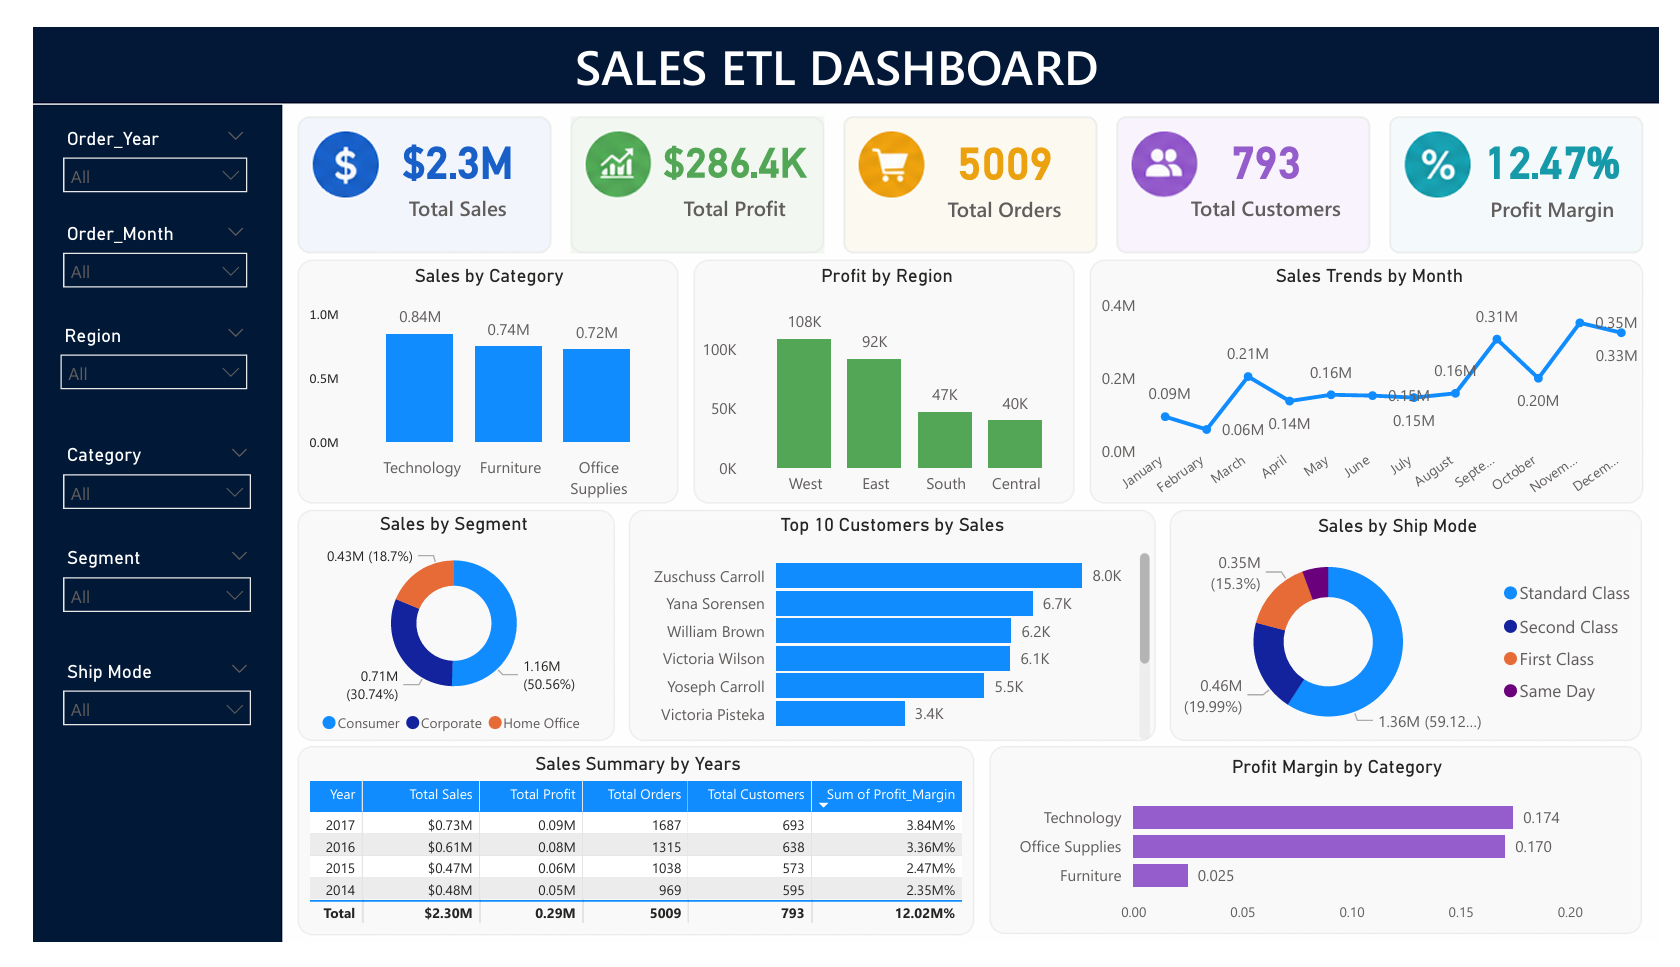

Layout of this report page (visuals, bound fields, positions):
{"tool":"powerbi","page":{"name":"Page 1","canvas":[1280,720],"ordinal":0},"visuals":[{"type":"image","box":[0,0,1280,720],"z":0},{"type":"card","title":"Total Sales","fields":{"Values":["public sales_data.Total Sales"]},"box":[269.2,78.3,139.2,80],"z":1000},{"type":"card","title":"Total Sales","fields":{"Values":["public sales_data.Total Profit"]},"box":[484.4,78.9,138.9,80],"z":2000},{"type":"card","title":"Total Sales","fields":{"Values":["public sales_data.Total Orders"]},"box":[692.5,78.8,140,80],"z":3000},{"type":"card","title":"Total Sales","fields":{"Values":["public sales_data.Total Customers"]},"box":[896.7,78.3,138.3,80],"z":4000},{"type":"card","title":"Total Sales","fields":{"Values":["public sales_data.Profit Margin"]},"box":[1119,73,139,91],"z":5000},{"type":"textbox","box":[0,5,1265,60],"z":6000},{"type":"columnChart","title":"Sales by Category","fields":{"Category":["public sales_data.Category"],"Y":["Sum(public sales_data.Sales)"]},"box":[217.5,190,290,187.5],"z":7000},{"type":"clusteredColumnChart","title":"Profit by Region","fields":{"Category":["public sales_data.Region"],"Y":["Sum(public sales_data.Profit)"]},"box":[522.9,190,298.6,187.1],"z":8000},{"type":"lineChart","title":"Sales Trends by Month","fields":{"Category":["public sales_data.Order Date.Variation.Date Hierarchy.Month"],"Y":["Sum(public sales_data.Sales)"]},"box":[832.5,190,427.5,187.5],"z":9000},{"type":"donutChart","title":"Sales by Segment","fields":{"Category":["public sales_data.Segment"],"Y":["Sum(public sales_data.Sales)"]},"box":[213.3,382.2,245,180.6],"z":10000},{"type":"barChart","title":"Top 10 Customers by Sales","fields":{"Category":["public sales_data.Customer Name"],"Y":["Sum(public sales_data.Sales)"]},"box":[471.2,382.5,410,180],"z":11000},{"type":"donutChart","title":"Sales by Ship Mode","fields":{"Category":["public sales_data.Ship Mode"],"Y":["Sum(public sales_data.Sales)"]},"box":[873.8,383.8,388.8,178.8],"z":12000},{"type":"clusteredBarChart","fields":{"Y":["public sales_data.Profit Margin"],"Category":["public sales_data.Category"]},"box":[762.9,571.4,517.1,137.1],"z":13000},{"type":"tableEx","title":"Sales Summary by Years","fields":{"Values":["public sales_data.Order Date.Variation.Date Hierarchy.Year","public sales_data.Total Sales","public sales_data.Total Profit","public sales_data.Total Orders","public sales_data.Total Customers","Sum(public sales_data.Profit_Margin)"]},"box":[217.5,568.8,521.2,138.8],"z":14000},{"type":"slicer","title":"Region","fields":{"Values":["public sales_data.Region"]},"box":[20,231.2,165,71.2],"z":15001},{"type":"slicer","fields":{"Values":["public sales_data.Order_Year"]},"box":[21.7,78.3,163.3,73.3],"z":15002},{"type":"slicer","fields":{"Values":["public sales_data.Order_Month"]},"box":[21.5,152.3,163.1,80],"z":15003},{"type":"slicer","title":"Region","fields":{"Values":["public sales_data.Category"]},"box":[22,324,166,70],"z":15004},{"type":"slicer","title":"Region","fields":{"Values":["public sales_data.Segment"]},"box":[22,404,166,70],"z":15005},{"type":"slicer","title":"Region","fields":{"Values":["public sales_data.Ship Mode"]},"box":[22,492,166,70],"z":15006}]}

Visuals, with their boxes in screenshot pixels (x1, y1, x2, y2), scaled from the page's 1280x720 canvas onto the 1680x967 screenshot:
image: box=[0, 0, 1679, 966]
"Total Sales" card: box=[353, 105, 536, 213]
"Total Sales" card: box=[636, 106, 818, 213]
"Total Sales" card: box=[909, 106, 1093, 213]
"Total Sales" card: box=[1177, 105, 1358, 213]
"Total Sales" card: box=[1469, 98, 1651, 220]
textbox: box=[0, 7, 1660, 87]
"Sales by Category" columnChart: box=[285, 255, 666, 507]
"Profit by Region" clusteredColumnChart: box=[686, 255, 1078, 506]
"Sales Trends by Month" lineChart: box=[1093, 255, 1654, 507]
"Sales by Segment" donutChart: box=[280, 513, 602, 756]
"Top 10 Customers by Sales" barChart: box=[618, 514, 1157, 755]
"Sales by Ship Mode" donutChart: box=[1147, 515, 1657, 756]
clusteredBarChart - public sales_data.Profit Margin x public sales_data.Category: box=[1001, 767, 1679, 952]
"Sales Summary by Years" tableEx: box=[285, 764, 970, 950]
"Region" slicer: box=[26, 311, 243, 406]
slicer - public sales_data.Order_Year: box=[28, 105, 243, 204]
slicer - public sales_data.Order_Month: box=[28, 205, 242, 312]
"Region" slicer: box=[29, 435, 247, 529]
"Region" slicer: box=[29, 543, 247, 637]
"Region" slicer: box=[29, 661, 247, 755]
